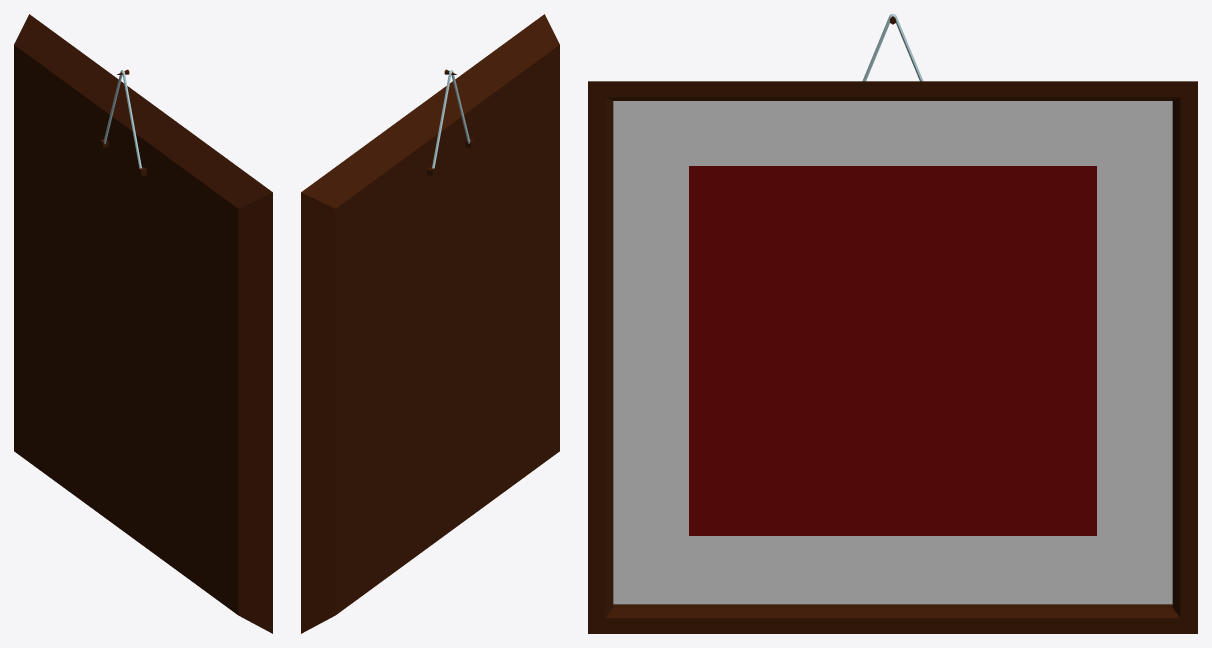
Rendered from Framed Paintings.fbx.
3 views of the same model, side by side, from view 1: azimuth 30°, elevation 25°; view 2: azimuth 150°, elevation 25°; view 3: azimuth 270°, elevation 25° (orthographic). The views are drawn at different scales.
Parts seen in each view (by area): view 1: Framed_Painting; view 2: Framed_Painting; view 3: Framed_Painting.
Boxes of the visible parts, x1,y1,x2,y2 form: Framed_Painting: [14, 14, 272, 633]; Framed_Painting: [301, 14, 559, 633]; Framed_Painting: [588, 14, 1197, 633].
Size of the model in its own units: 0.0987 by 1.3 by 1.19.
